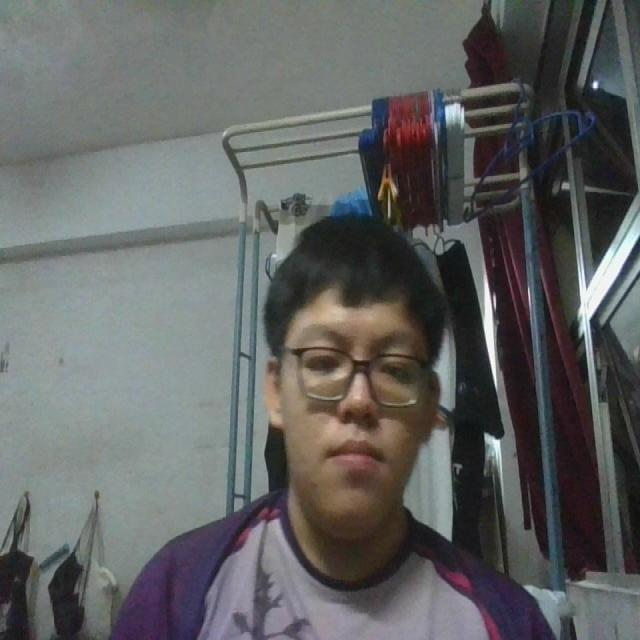person_without_labcoat: (113, 216, 553, 639)
